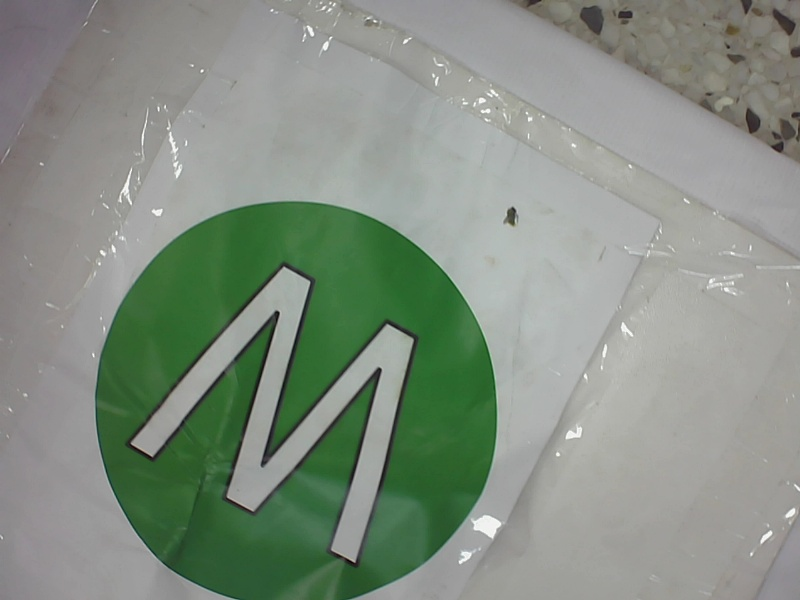areaB: (85, 192, 501, 599)
